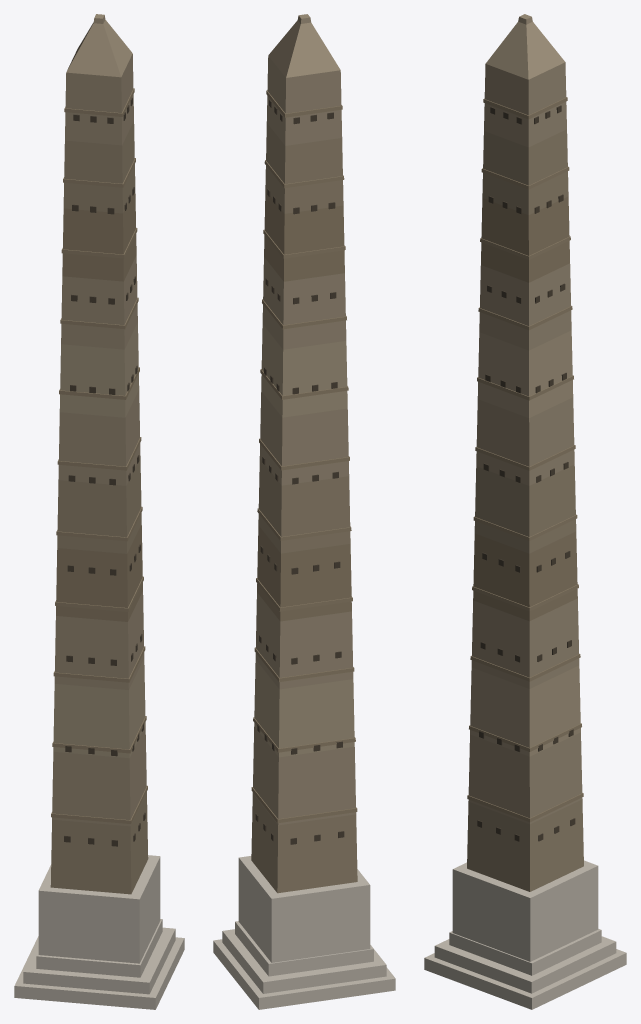
The model's file is ormedikilitas.glb.
3 renders of one model, left to right at view 1: azimuth 30°, elevation 25°; view 2: azimuth 150°, elevation 25°; view 3: azimuth 270°, elevation 25°, orthographic.
Visible parts, largest first — view 1: ormedikilitas; view 2: ormedikilitas; view 3: ormedikilitas.
Part boxes in pixels (x1,y1,x2,y2): ormedikilitas: (14,14,184,1009); ormedikilitas: (213,14,395,1009); ormedikilitas: (424,14,626,1009).
Bounding box in the file's own units: 6.32 × 32.77 × 6.32.
